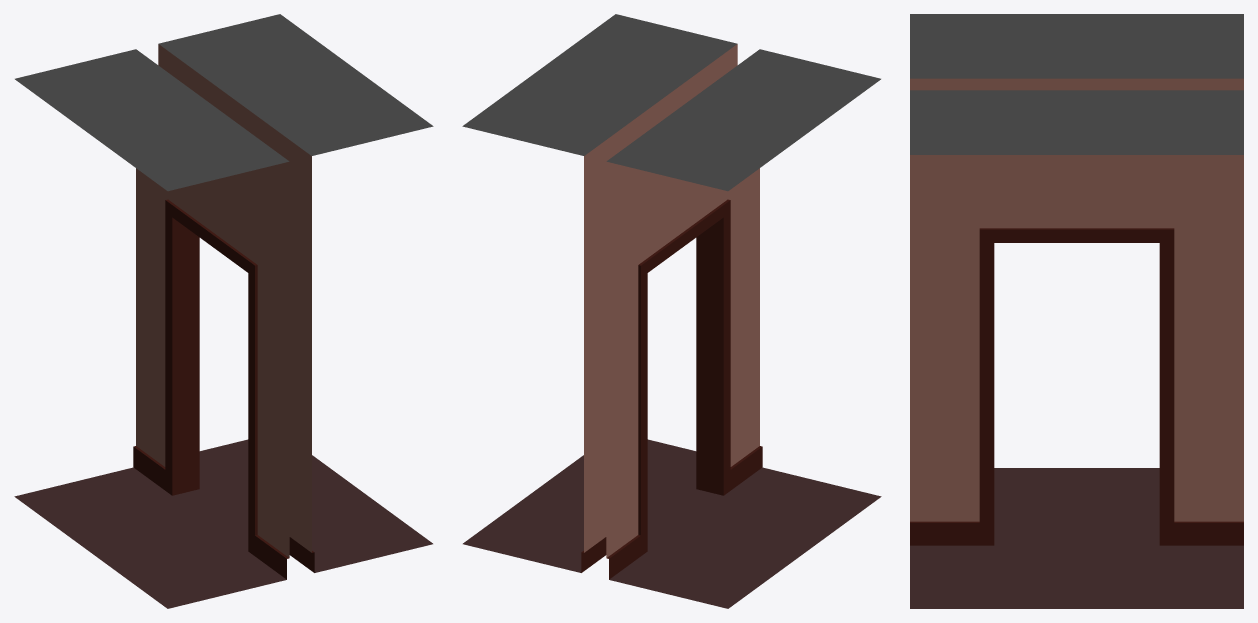
File: Tile_06.fbx
The picture shows the model from 3 angles, left to right: view 1: azimuth 30°, elevation 25°; view 2: azimuth 150°, elevation 25°; view 3: azimuth 270°, elevation 25°; orthographic projection. The views are drawn at different scales.
Visible parts, largest first — view 1: Tile_06; view 2: Tile_06; view 3: Tile_06.
Boxes of the visible parts, box(x1,y1,x2,y2) form: Tile_06: box(14, 14, 433, 608); Tile_06: box(462, 14, 881, 608); Tile_06: box(910, 14, 1243, 608).
Bounding box in the file's own units: 200 × 300 × 200.
